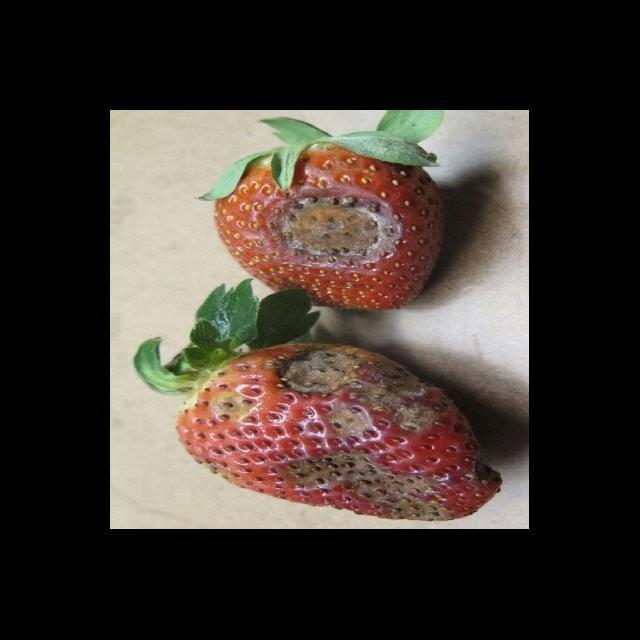Anthracnose Fruit Rot: (263, 344, 505, 522), (259, 186, 406, 269)
